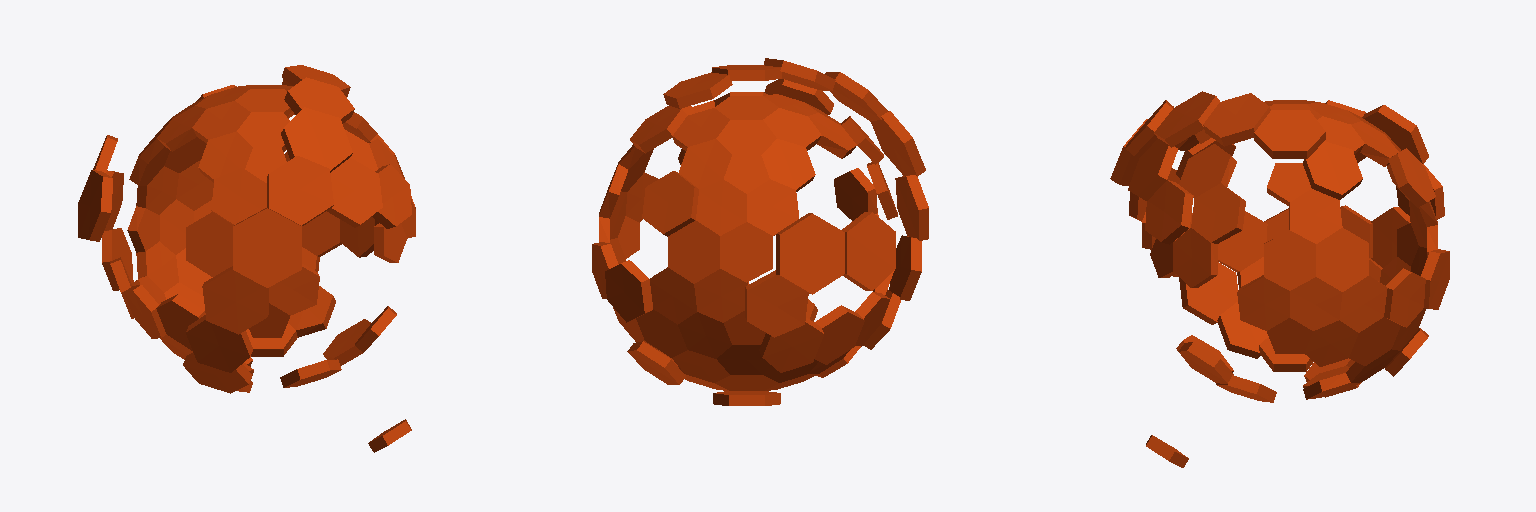
File: Grass2.obj
3 renders of one model, left to right at view 1: azimuth 30°, elevation 25°; view 2: azimuth 150°, elevation 25°; view 3: azimuth 270°, elevation 25°, orthographic.
Parts seen in each view (by area): view 1: Grass2_GD_mesh.009; view 2: Grass2_GD_mesh.009; view 3: Grass2_GD_mesh.009.
Boxes of the visible parts, box(x1,y1,x2,y2) form: Grass2_GD_mesh.009: box(78, 65, 415, 452); Grass2_GD_mesh.009: box(592, 58, 928, 405); Grass2_GD_mesh.009: box(1110, 91, 1449, 467).
Size of the model in its own units: 4.72 by 5.25 by 4.71.